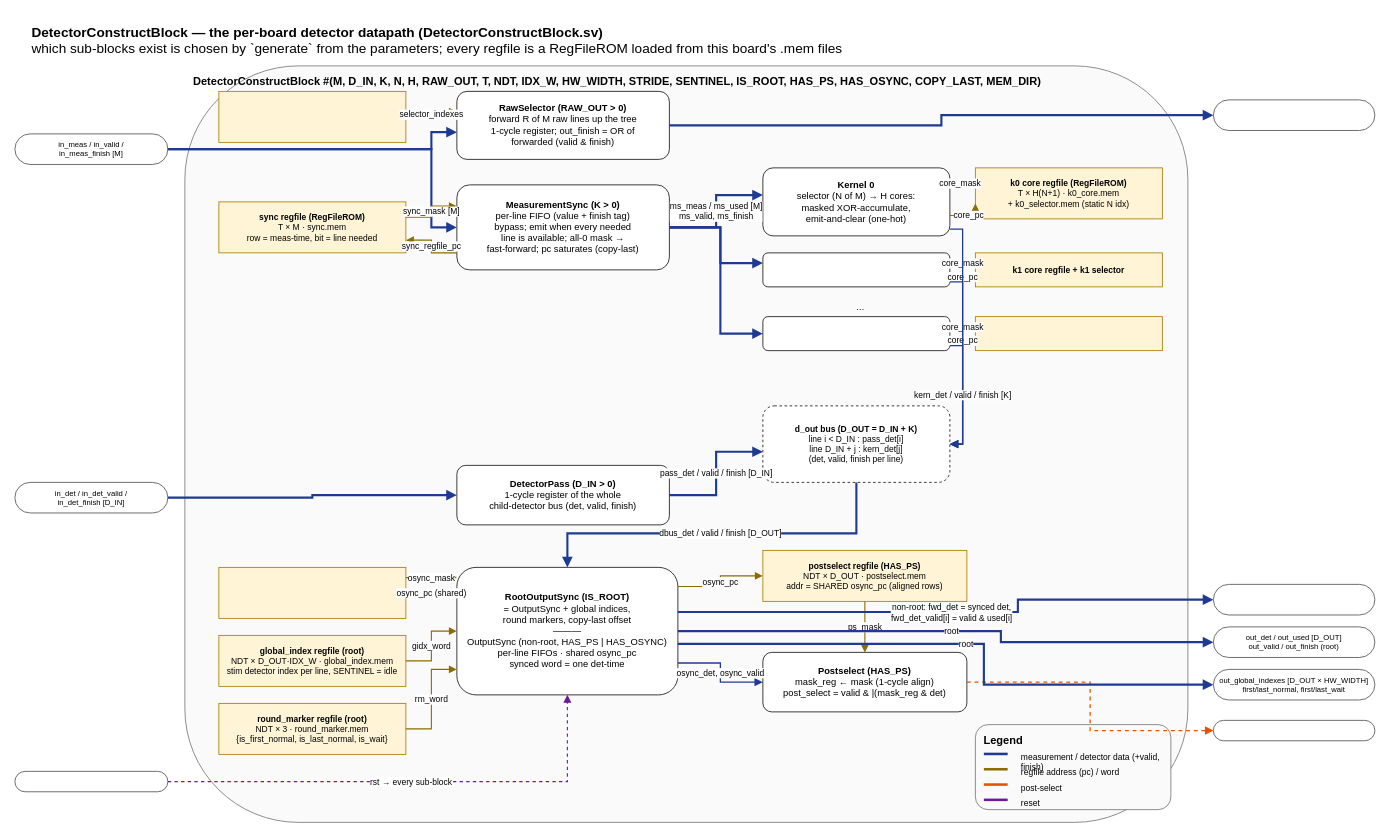
Some shapes in this 1390 by 837 pixel diagram are drawn without their labels. Here are the shapes that lost their labels. From the top down, the centre of each, then its label:
pixel 312 116: raw_selector.mem (static) RAW_OUT × ⌈log2 M⌉ indices $readmemb → packed constant
pixel 1294 114: fwd_raw / fwd_raw_valid [RAW_OUT] fwd_raw_finish → parent
pixel 856 269: Kernel 1
pixel 856 333: Kernel K−1
pixel 1068 333: k(K−1) core regfile + selector
pixel 312 592: output_sync regfile NDT × D_OUT · output_sync.mem row = det-time
pixel 1294 599: fwd_det / fwd_det_valid [D_OUT] fwd_det_finish → parent (non-root)
pixel 1294 730: post_select (stage)
pixel 91 781: clk / rst (= board_reset)
